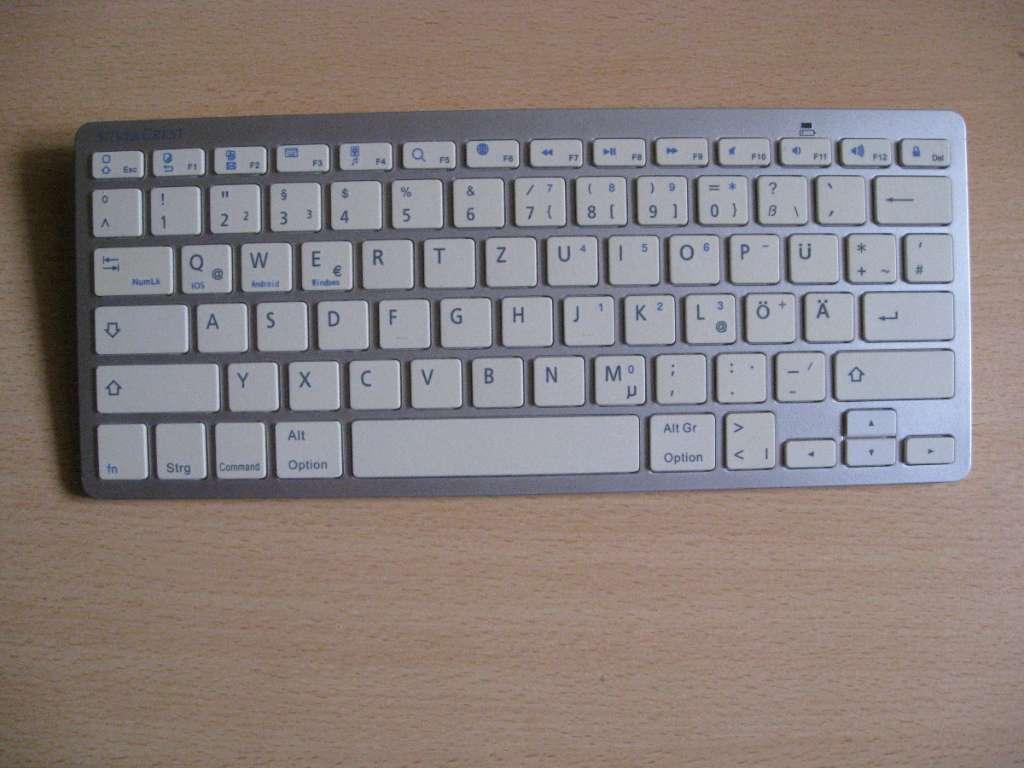0: (694, 171, 748, 223)
1: (147, 182, 198, 234)
2: (205, 180, 259, 232)
3: (265, 178, 321, 230)
4: (326, 176, 380, 228)
5: (387, 175, 441, 227)
6: (448, 173, 503, 226)
7: (510, 173, 566, 226)
8: (572, 173, 626, 225)
9: (633, 172, 688, 224)
a: (192, 299, 246, 351)
accent: (812, 171, 864, 222)
ae: (800, 288, 853, 340)
alt-left: (272, 419, 341, 479)
altgr-right: (645, 411, 719, 473)
b: (466, 352, 522, 405)
c: (344, 355, 400, 407)
caret: (87, 184, 139, 235)
comma: (651, 349, 705, 402)
d: (312, 296, 367, 349)
del: (871, 171, 951, 222)
e: (296, 236, 351, 288)
enter: (859, 286, 953, 339)
f: (374, 295, 428, 347)
g: (435, 293, 490, 346)
h: (496, 292, 551, 345)
hash: (901, 228, 952, 281)
i: (605, 231, 659, 283)
j: (559, 292, 614, 344)
k: (621, 289, 674, 343)
keyboard: (63, 100, 974, 506)
l: (682, 289, 736, 342)
less: (719, 408, 776, 470)
m: (589, 350, 645, 404)
minus: (771, 347, 825, 400)
n: (528, 351, 583, 404)
o: (664, 230, 719, 283)
oe: (741, 288, 794, 341)
p: (725, 229, 779, 282)
plus: (842, 228, 895, 281)
point: (712, 348, 767, 401)
q: (175, 240, 231, 292)
r: (357, 235, 412, 287)
s: (252, 298, 306, 350)
shift-left: (91, 359, 220, 411)
shift-lock: (88, 301, 186, 353)
shift-right: (830, 344, 955, 398)
space: (348, 411, 640, 476)
ss: (752, 170, 805, 223)
strg-left: (151, 419, 207, 479)
t: (419, 233, 473, 286)
tab: (87, 241, 171, 294)
u: (542, 231, 597, 285)
ue: (784, 228, 837, 282)
v: (405, 353, 461, 406)
w: (235, 237, 290, 290)
x: (284, 357, 339, 409)
y: (223, 358, 277, 410)
z: (481, 232, 535, 285)
